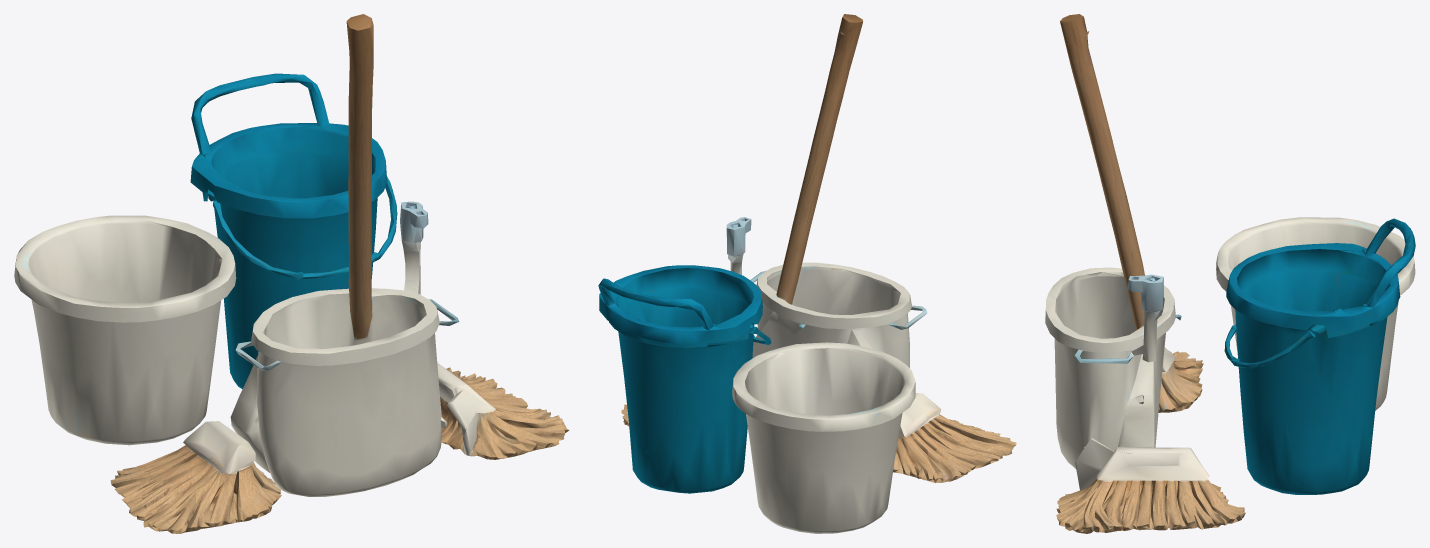
File: mop_bucket.glb
3 renders of one model, left to right at view 1: azimuth 30°, elevation 25°; view 2: azimuth 150°, elevation 25°; view 3: azimuth 270°, elevation 25°, orthographic. The views are drawn at different scales.
Visible parts, largest first — view 1: model; view 2: model; view 3: model.
Part boxes in pixels (bbox=[...]): model: bbox=[14, 14, 569, 533]; model: bbox=[598, 14, 1016, 533]; model: bbox=[1045, 14, 1415, 533].
Bounding box in the file's own units: 0.7892 × 0.85 × 0.6684.
Materials: 1 (1 with a texture image).
